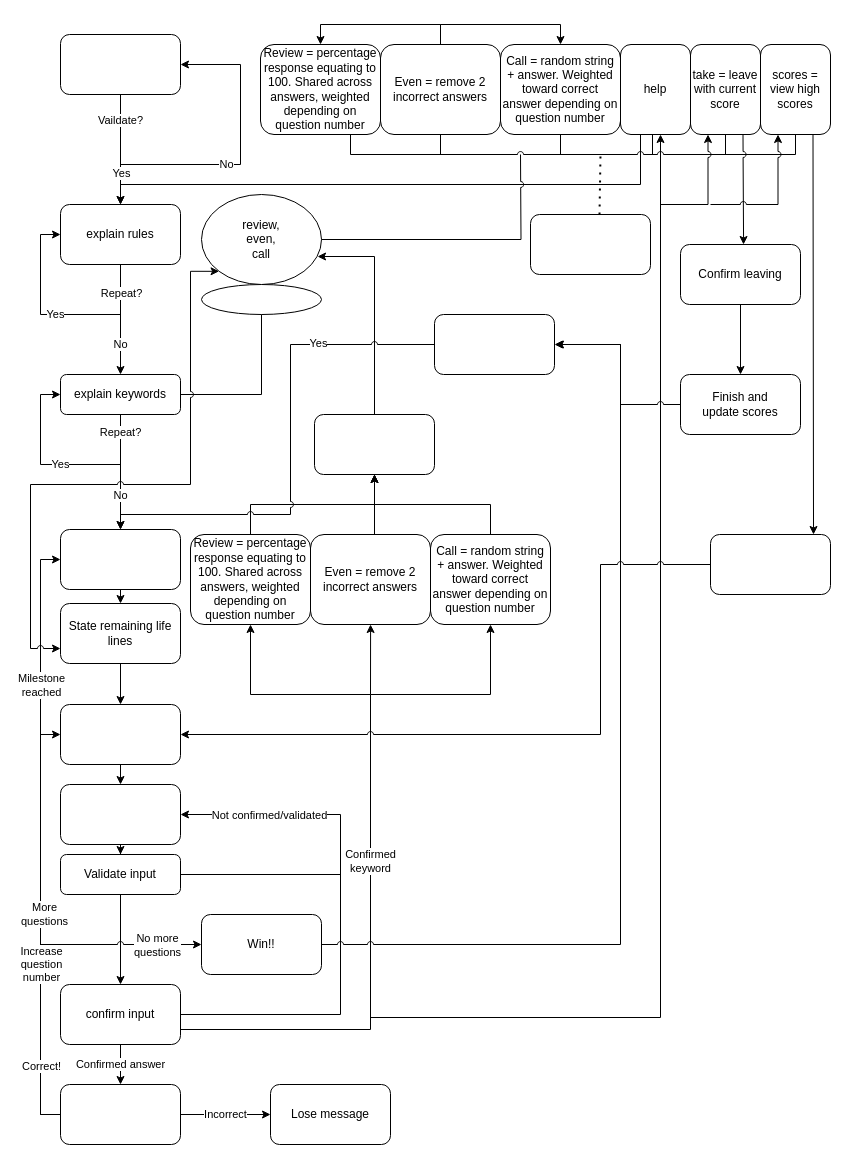
Image size: 848x1162. Some labels were removed from this diagram. The shapes that lost their labels are listed below. From the top down, each one's centre as x and y in pixels, then its label:
At (x=120, y=64): "user_name input".
At (x=590, y=244): "repeat q?".
At (x=261, y=299): "help, take, scores".
At (x=494, y=344): "Replay?".
At (x=374, y=444): "Remove lifeline".
At (x=120, y=559): "get question data".
At (x=770, y=564): "back to the game message".
At (x=120, y=734): "show question and available answers".
At (x=120, y=814): "user input answer (or keyword)".
At (x=120, y=1114): "check answer".
